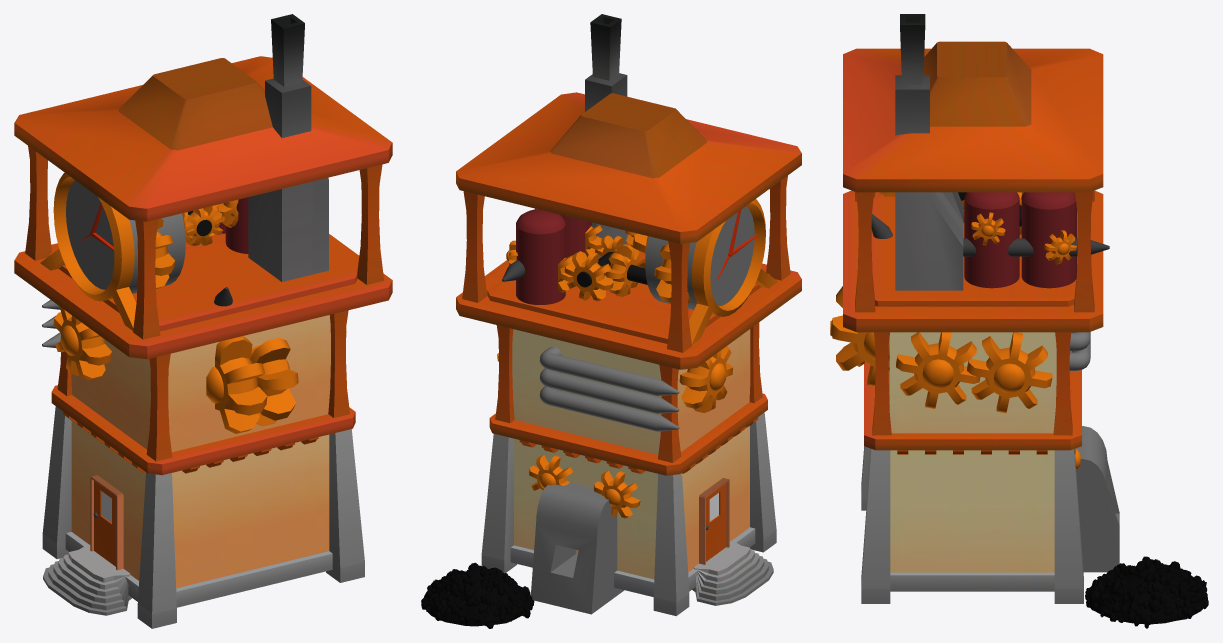
Rendered from House3.fbx.
3 renders of one model, left to right at view 1: azimuth 30°, elevation 25°; view 2: azimuth 150°, elevation 25°; view 3: azimuth 270°, elevation 25°, orthographic. The views are drawn at different scales.
Visible parts, largest first — view 1: Cube.042, Cube.018, Cube.032, Cube.041, Cube.033, Circle, Cube.001, Cube.040, Cube.005, Cube.008, Cylinder.023, Cube.044 (+14 smaller); view 2: Cube.042, Cube.018, Cube.032, Cube.045, Cube.033, Circle, Cube.001, Cube.040, Circle.002, Cube.006, Cylinder.003, Cube.007 (+22 smaller); view 3: Cube.042, Cube.018, Cube.041, Cube.032, Cube.033, Circle.002, Cube.001, Cube.040, Cube.045, Cylinder.003, Cylinder, Cube.007 (+12 smaller).
Boxes of the visible parts, x1=… form: Cube.042: x1=14, y1=56, x2=392, y2=221; Cube.018: x1=71, y1=421, x2=329, y2=588; Cube.032: x1=71, y1=315, x2=330, y2=452; Cube.041: x1=248, y1=14, x2=328, y2=281; Cube.033: x1=14, y1=234, x2=392, y2=359; Circle: x1=40, y1=172, x2=185, y2=330; Cube.001: x1=49, y1=233, x2=357, y2=331; Cube.040: x1=51, y1=385, x2=355, y2=475; Cube.005: x1=137, y1=472, x2=176, y2=628; Cube.008: x1=326, y1=429, x2=364, y2=582; Cylinder.023: x1=206, y1=336, x2=267, y2=433; Cube.044: x1=43, y1=544, x2=131, y2=615; Cube.042: x1=456, y1=92, x2=801, y2=243; Cube.018: x1=514, y1=426, x2=749, y2=579; Cube.032: x1=512, y1=329, x2=750, y2=454; Cube.045: x1=530, y1=482, x2=624, y2=614; Cube.033: x1=456, y1=234, x2=801, y2=369; Circle: x1=645, y1=199, x2=777, y2=344; Cube.001: x1=487, y1=235, x2=769, y2=343; Cube.040: x1=489, y1=393, x2=767, y2=475; Circle.002: x1=421, y1=562, x2=534, y2=628; Cube.006: x1=653, y1=473, x2=689, y2=616; Cylinder.003: x1=516, y1=209, x2=565, y2=304; Cube.007: x1=481, y1=434, x2=517, y2=573; Cube.042: x1=843, y1=41, x2=1103, y2=192; Cube.018: x1=890, y1=450, x2=1054, y2=572; Cube.041: x1=895, y1=14, x2=963, y2=290; Cube.032: x1=889, y1=332, x2=1056, y2=433; Cube.033: x1=843, y1=190, x2=1103, y2=332; Circle.002: x1=1085, y1=556, x2=1208, y2=628; Cube.001: x1=871, y1=194, x2=1077, y2=306; Cube.040: x1=864, y1=351, x2=1081, y2=450; Cube.045: x1=1075, y1=426, x2=1119, y2=572; Cylinder.003: x1=1021, y1=192, x2=1076, y2=288; Cylinder: x1=964, y1=192, x2=1019, y2=288; Cube.007: x1=1054, y1=449, x2=1083, y2=603.
Size of the model in its own units: 2222 by 4351 by 2606.
